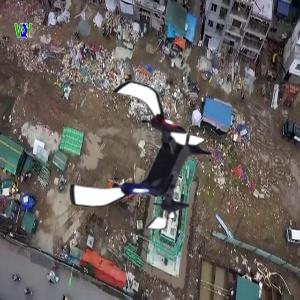drone: (68, 80, 221, 233)
